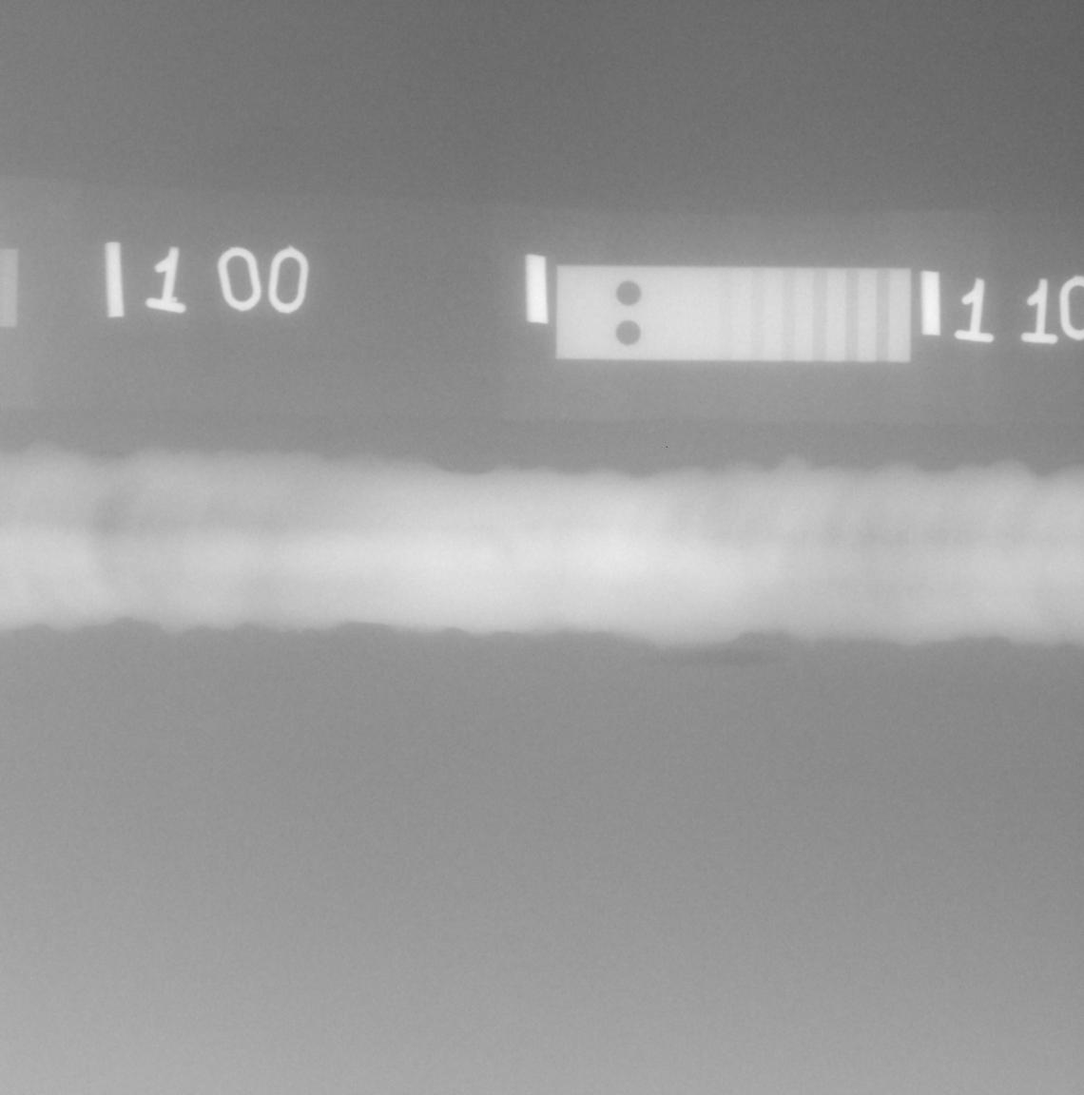Reference Standard 2: (556, 265, 912, 363)
